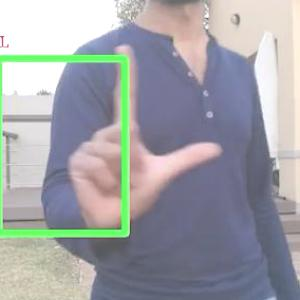land_hand: (54, 33, 231, 240)
